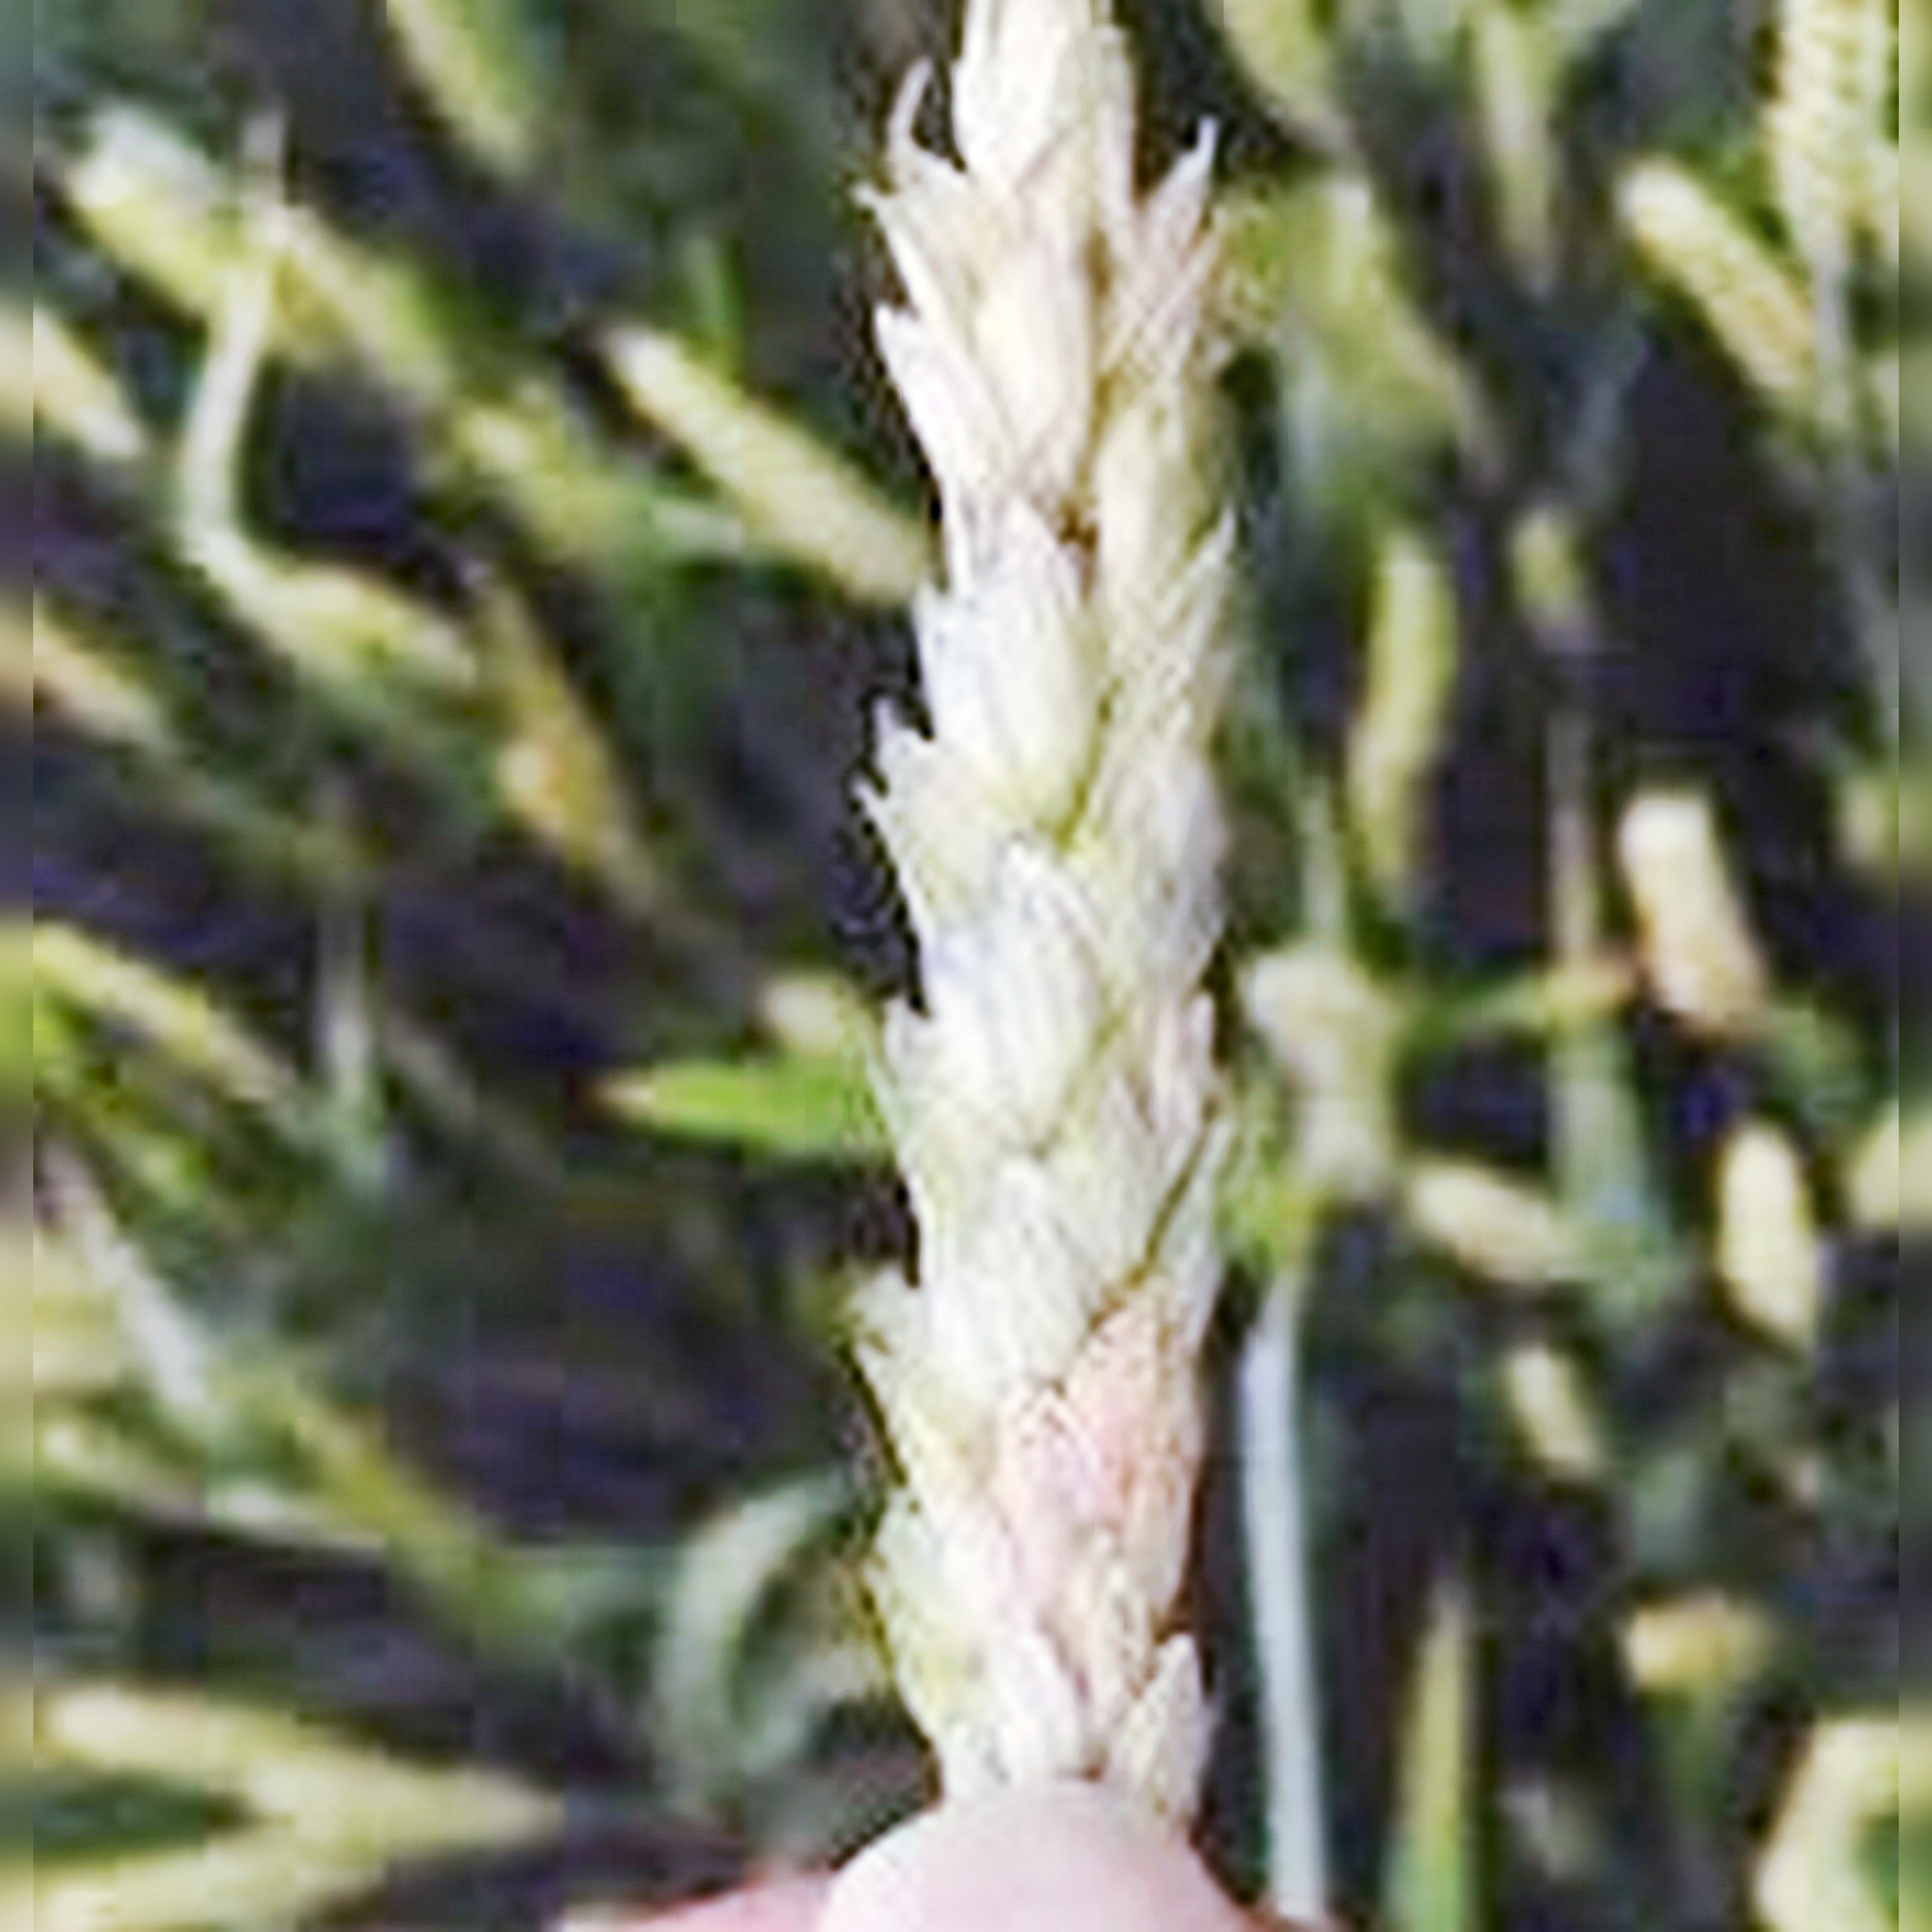Wheat scab: (773, 115, 1253, 1753)
